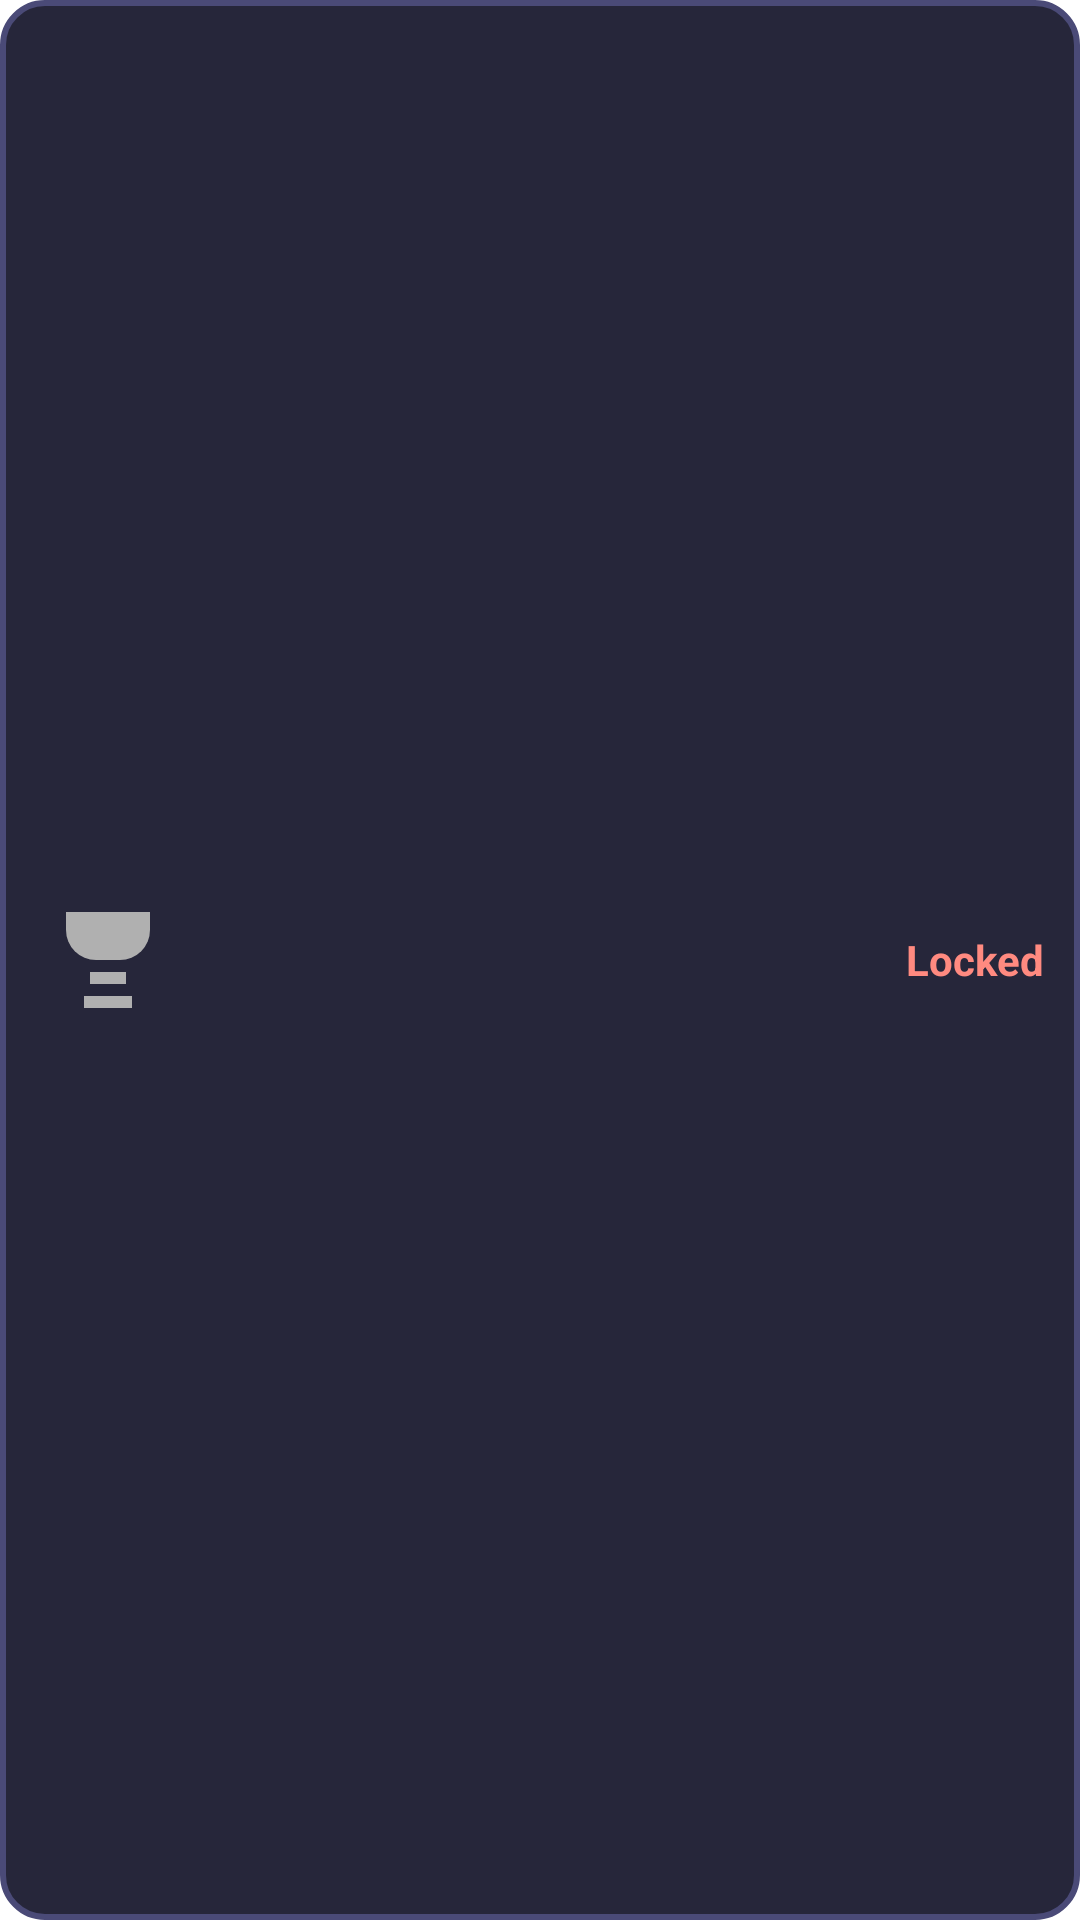

Named icons in this screenshot (1080*1920) and their bounding boxes, (x1, y1, x2, y2):
trophy locked: (66, 912, 150, 1008)
